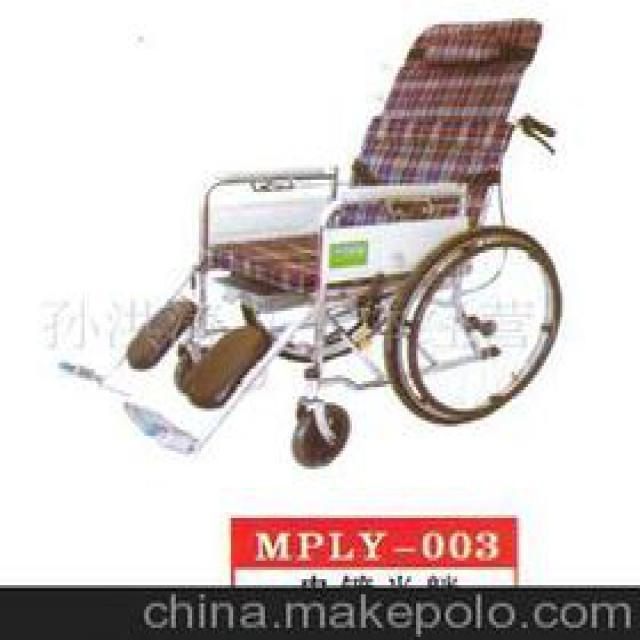wheelchairs: (64, 20, 564, 466)
